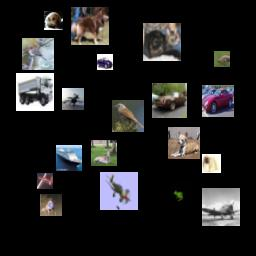airplane: (100, 172, 138, 210), (202, 188, 240, 226), (62, 88, 84, 110), (37, 173, 53, 189)
automobile: (152, 83, 187, 118), (202, 85, 234, 117), (97, 54, 113, 70)
bird: (112, 100, 144, 132), (22, 38, 54, 70)
cat: (143, 23, 181, 61)
deer: (91, 140, 117, 166), (214, 51, 230, 67)
dog: (71, 7, 109, 45), (168, 127, 200, 159), (202, 154, 221, 173), (44, 11, 63, 30)
frog: (170, 180, 192, 202), (40, 194, 62, 216)
ship: (56, 145, 82, 171)
truck: (16, 73, 54, 111)
